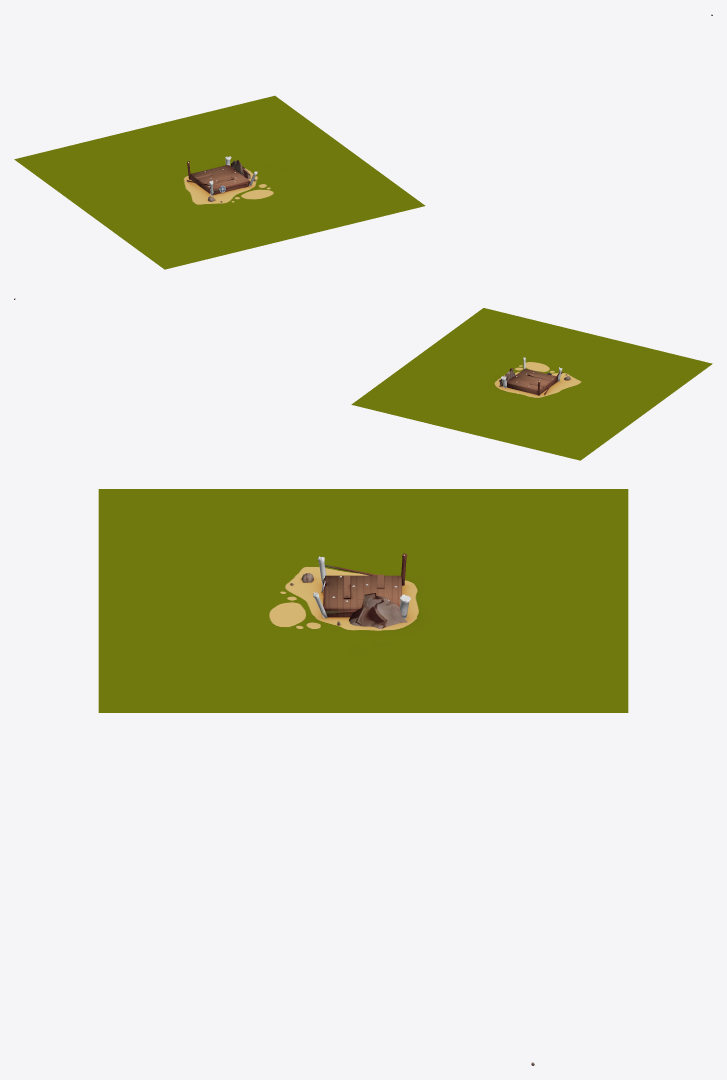
Rendered from VikRing.FBX.
3 views of the same model, one above another, from view 1: azimuth 30°, elevation 25°; view 2: azimuth 150°, elevation 25°; view 3: azimuth 270°, elevation 25° (orthographic). The views are drawn at different scales.
Parts seen in each view (by area): view 1: Grass, Ring; view 2: Grass, Ring; view 3: Grass, Ring, BigRock.
Boxes of the visible parts, x1,y1,x2,y2 form: Grass: (14,95,425,269); Ring: (190,165,249,194); Grass: (351,308,712,460); Ring: (507,368,557,394); Grass: (98,489,628,712); Ring: (325,575,401,617); BigRock: (349,593,407,628).
Bounding box in the file's own units: 129 × 50 × 3.86.
